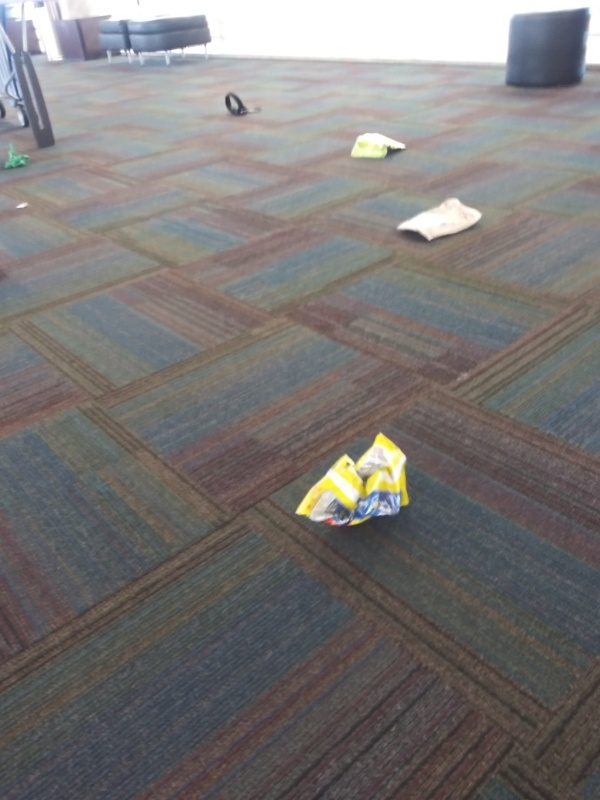bag: (282, 428, 422, 531), (386, 194, 488, 248), (341, 127, 409, 162)
